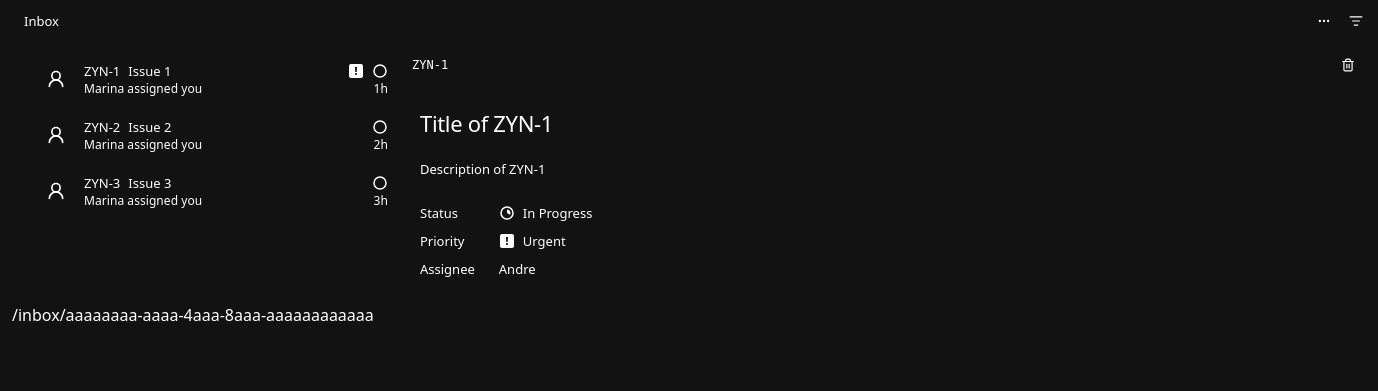
Test: InboxPage › desfaz a mudança e avisa quando a API recusa
The width and height of the screenshot is (1378, 391).
Step 1. Click the button named "Delete notification" → point(1348, 65), box [1334, 51, 1362, 79]
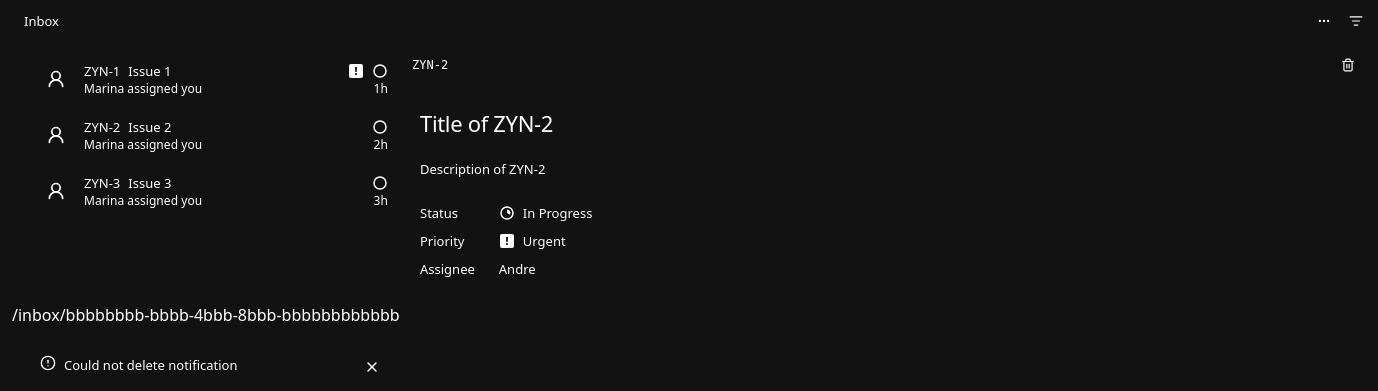
Expected: the option "ZYN-1 Issue 1 Marina assigned you 1h" is shown, [20, 51, 388, 107]
Now the text "Could not delete notification" is shown, box [64, 356, 238, 374]
